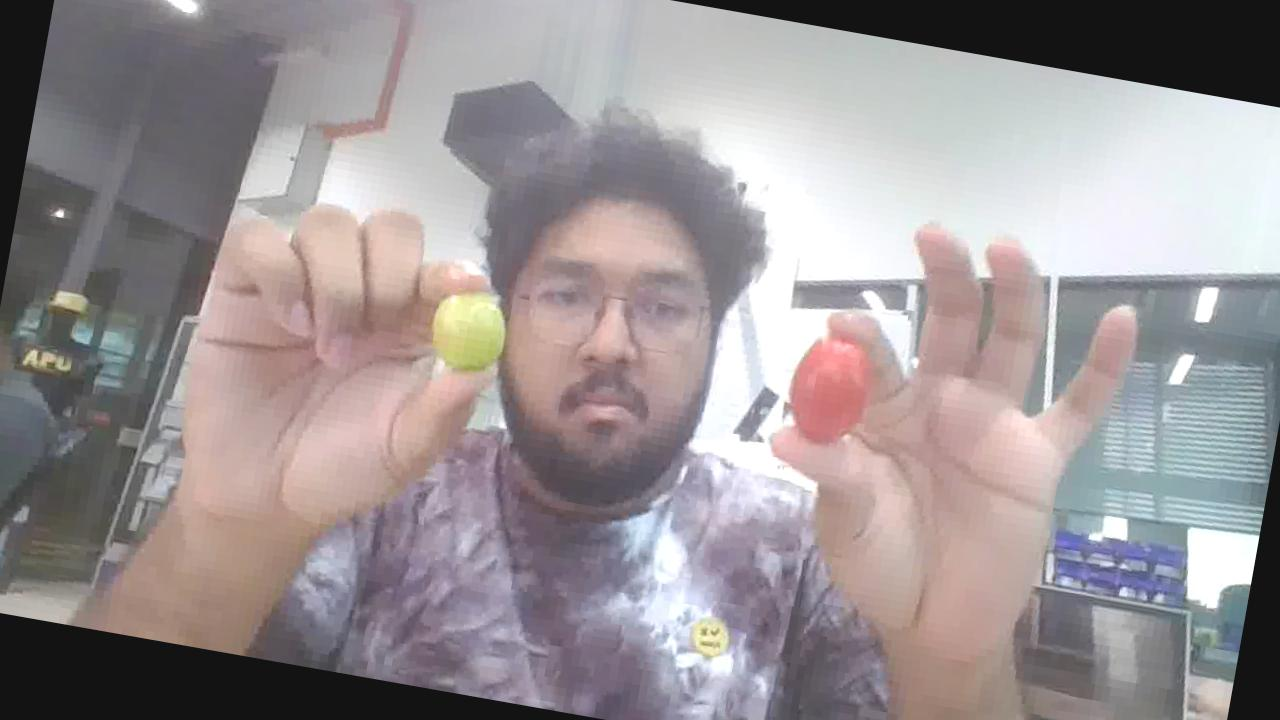green_cherry_tomato: (431, 293, 505, 370)
red_cherry_tomato: (788, 336, 869, 443)
